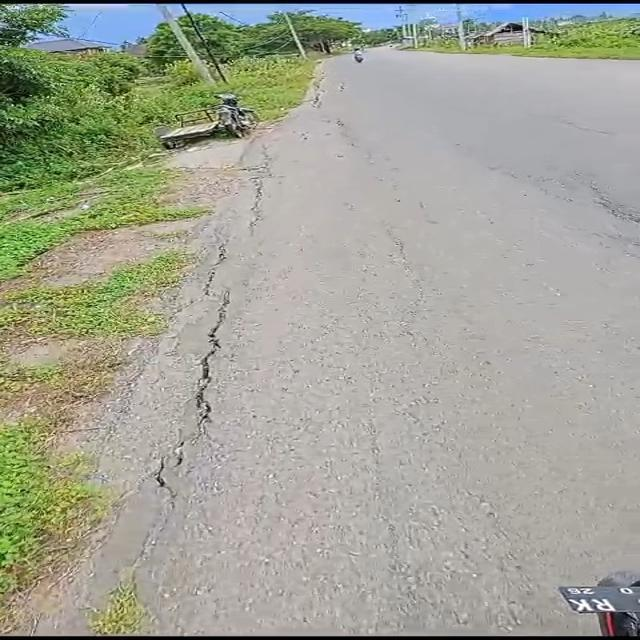Pinggir: (0, 150, 309, 640)
